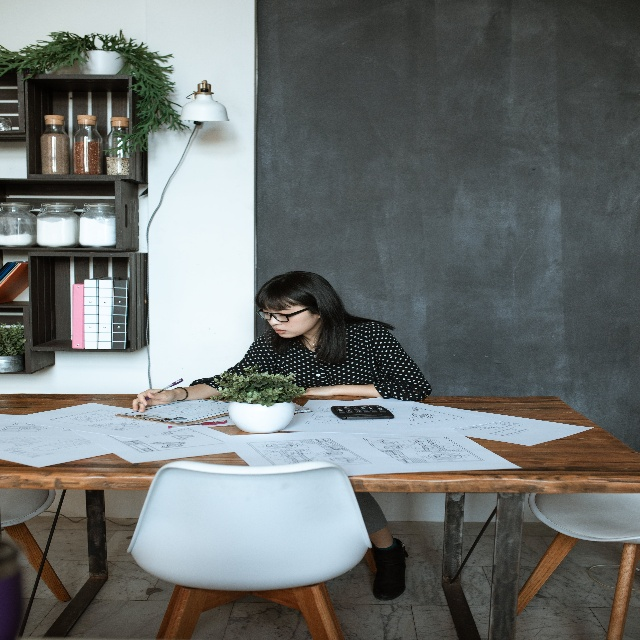Gafas: (255, 307, 312, 322)
Sin_guantes: (132, 388, 176, 413), (300, 385, 334, 397)
